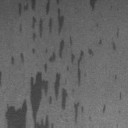red iron: (4, 0, 120, 128), (10, 50, 26, 64), (88, 0, 96, 10), (0, 70, 4, 86), (117, 92, 124, 100), (100, 105, 107, 112), (114, 70, 118, 78), (117, 109, 122, 114), (116, 122, 119, 128), (96, 23, 99, 28)
